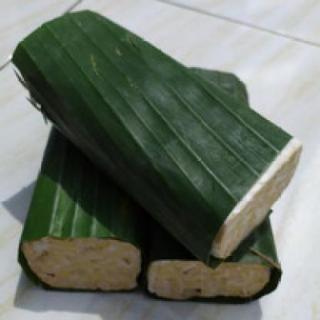Tempe: (11, 8, 306, 305)
